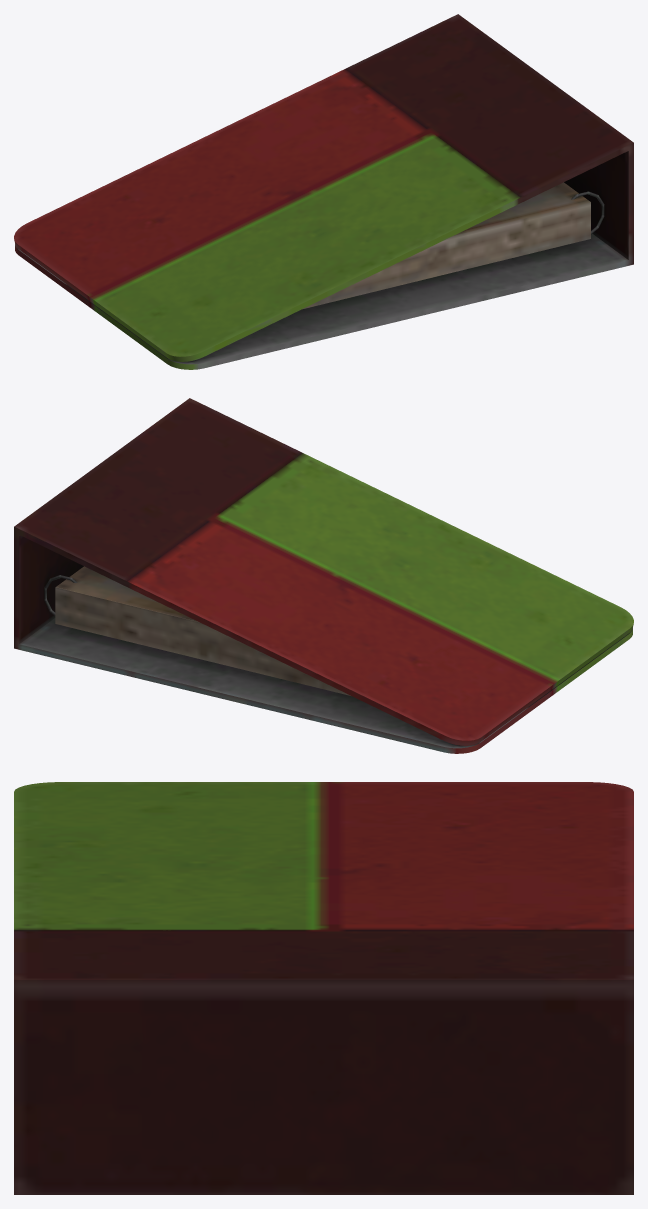
The model's file is ringbinder_short.DAE.
3 views of the same model, one above another, from view 1: azimuth 30°, elevation 25°; view 2: azimuth 150°, elevation 25°; view 3: azimuth 270°, elevation 25° (orthographic). The views are drawn at different scales.
Visible parts, largest first — view 1: ringbinder_short; view 2: ringbinder_short; view 3: ringbinder_short.
Boxes of the visible parts, left/top/right/bottom form: ringbinder_short: left=14, top=14, right=633, bottom=369; ringbinder_short: left=14, top=398, right=633, bottom=753; ringbinder_short: left=14, top=782, right=633, bottom=1194.
Bounding box in the file's own units: 29.79 × 7.64 × 19.96.
